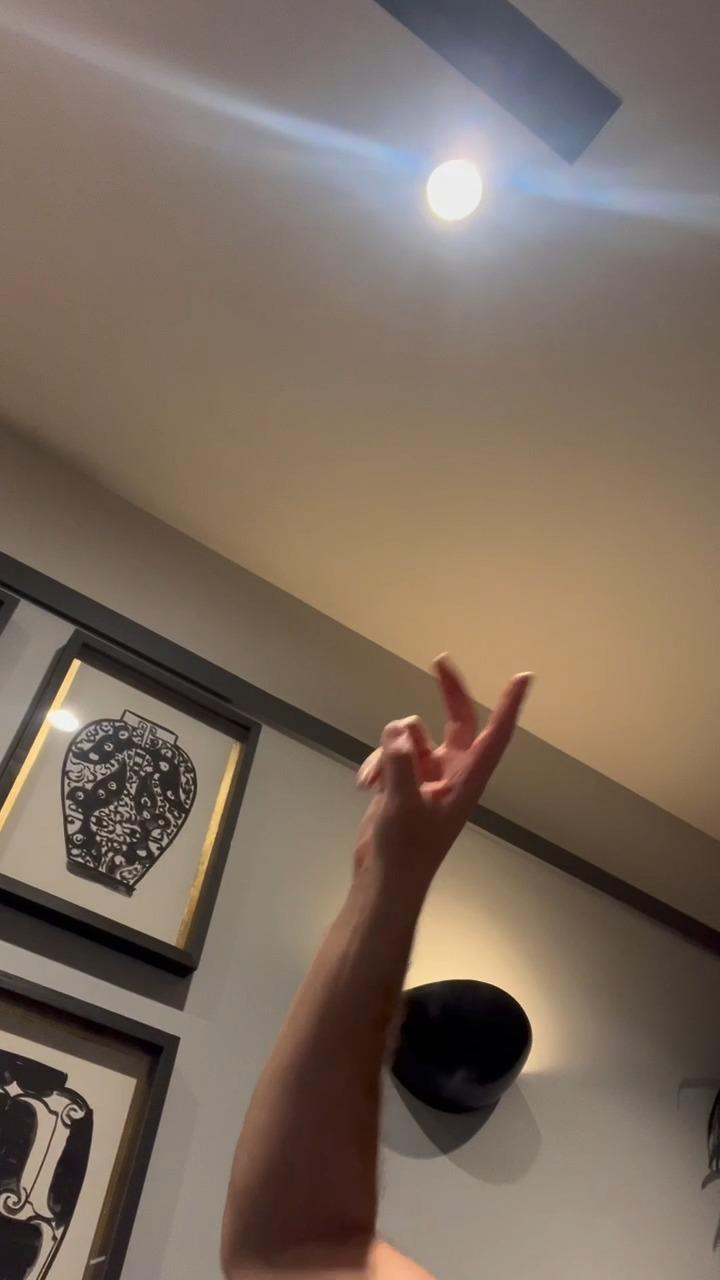Scissors: (356, 656, 534, 868)
